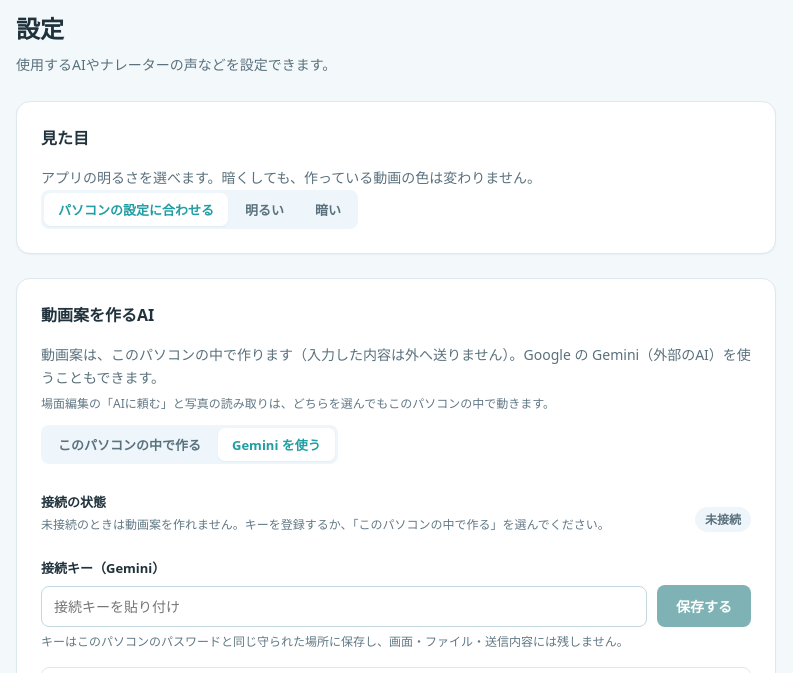
Test: 設定：動画案を作るAI の選び方（ADR-0051） › このパソコンの中に戻すと、接続キーの欄を閉じる
Step 1. Click the button "このパソコンの中で作る" → (130, 445), box [44,428,215,461]
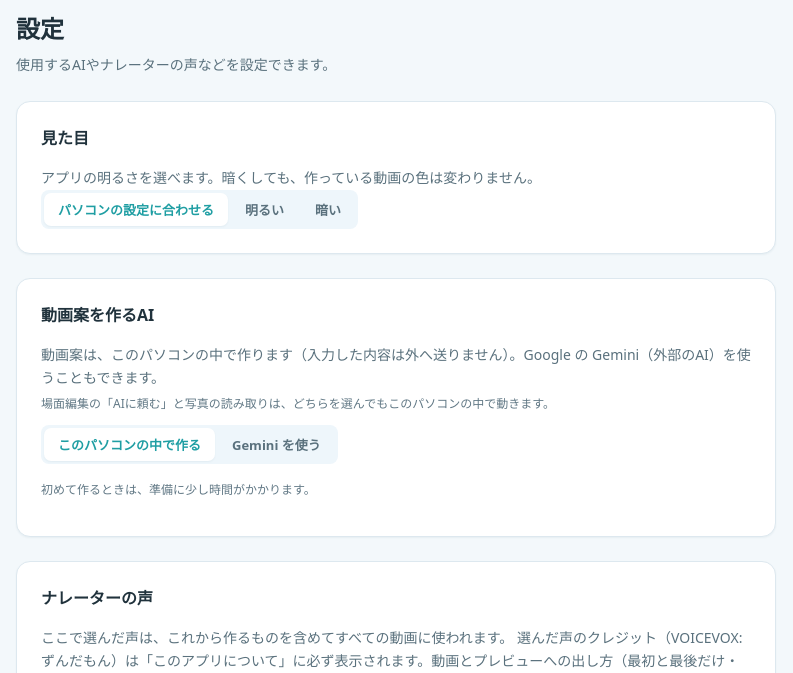
Expected: the password field with placeholder "接続キーを貼り付け" is gone
